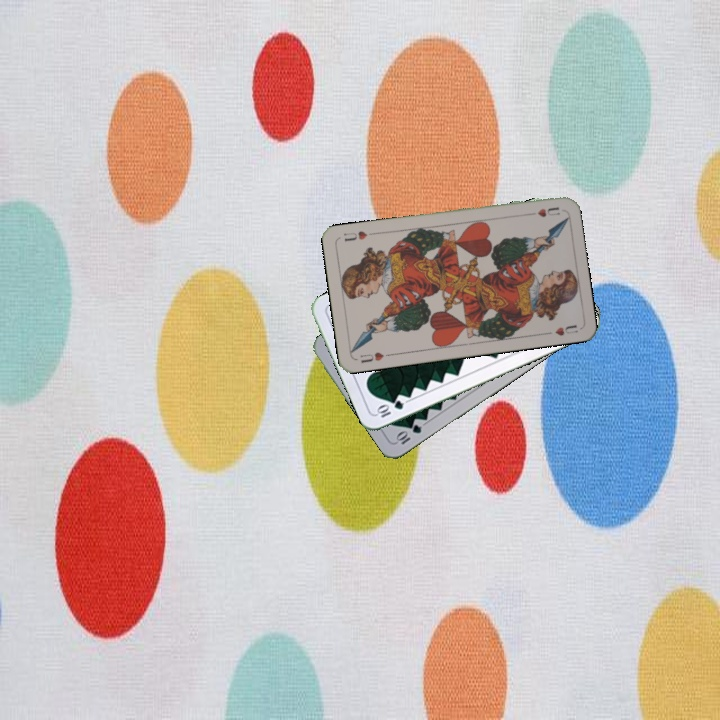G10: (392, 420, 424, 447), (373, 396, 406, 420)
HU: (356, 348, 394, 366), (524, 203, 562, 220)
